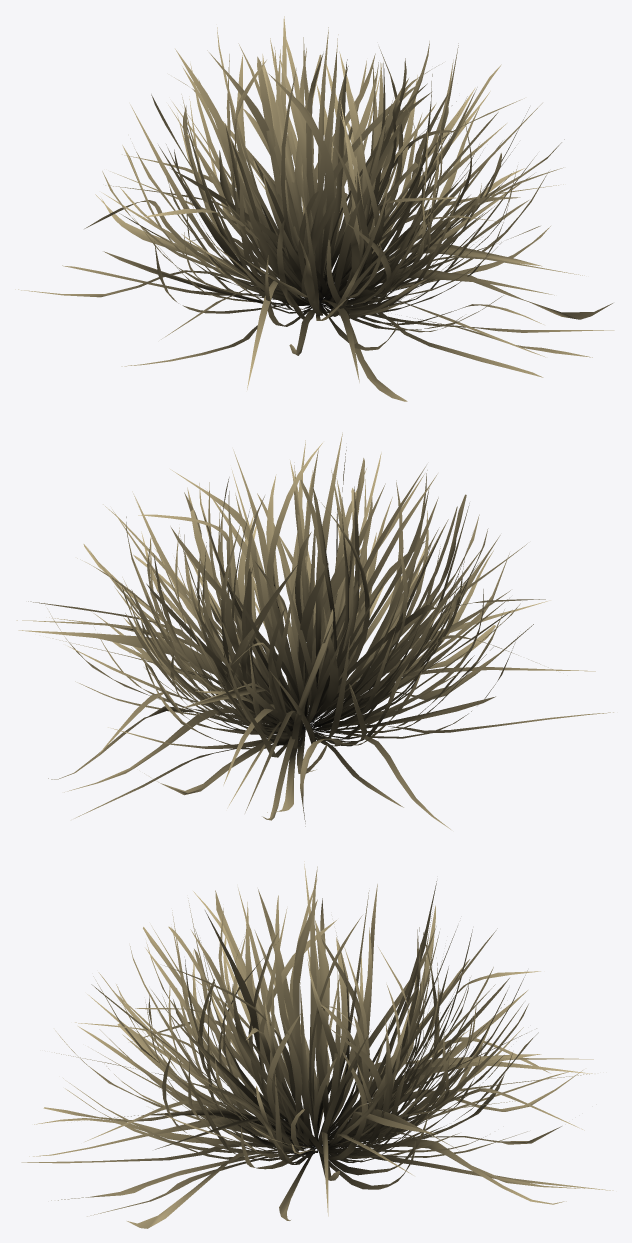
File: grass4.fbx
3 renders of one model, top to bottom at view 1: azimuth 30°, elevation 25°; view 2: azimuth 150°, elevation 25°; view 3: azimuth 270°, elevation 25°, orthographic.
Visible parts, largest first — view 1: GS Dryland clump bush; view 2: GS Dryland clump bush; view 3: GS Dryland clump bush.
Part boxes in pixels (left/top/right/bottom): GS Dryland clump bush: left=15, top=16, right=614, bottom=401; GS Dryland clump bush: left=16, top=432, right=613, bottom=829; GS Dryland clump bush: left=21, top=861, right=613, bottom=1228.
Bounding box in the file's own units: 58.95 × 28.01 × 60.92.
